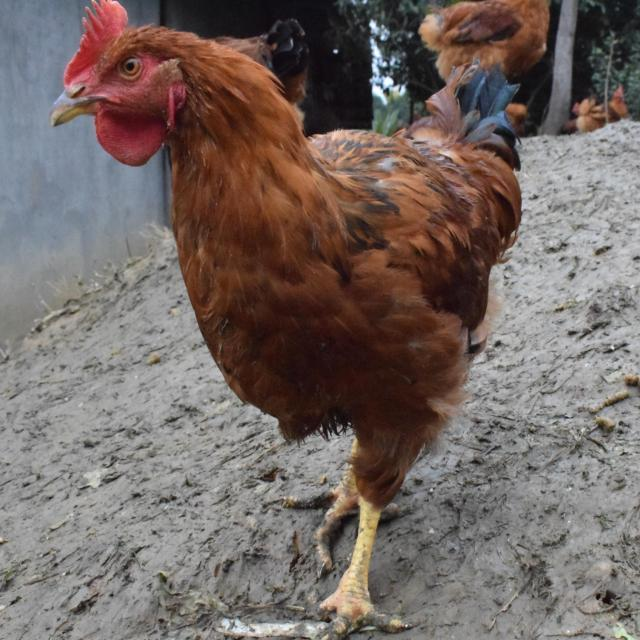cook: (0, 2, 543, 524)
